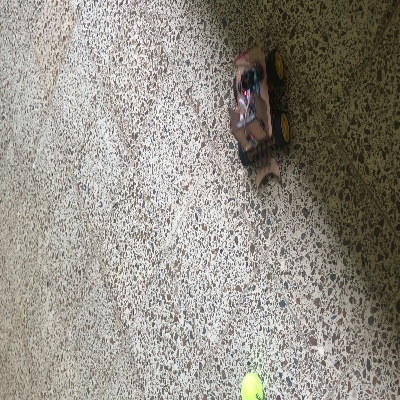Ball: (241, 372, 262, 399)
Robot: (230, 39, 289, 182)
